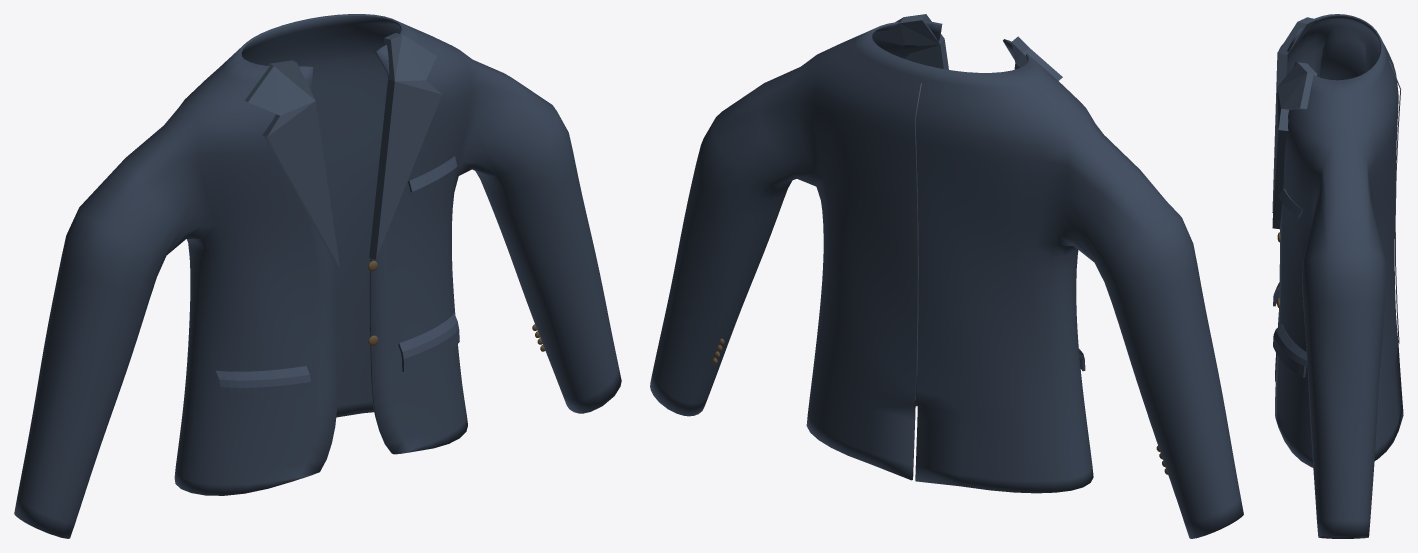
3 views of the same model, side by side, from view 1: azimuth 30°, elevation 25°; view 2: azimuth 150°, elevation 25°; view 3: azimuth 270°, elevation 25° (orthographic). The views are drawn at different scales.
Parts seen in each view (by area): view 1: Continuous open-front tailored torso and cuff sleeves, Left real notched lapel, Right real notched lapel, Left pocket flap, Right pocket flap; view 2: Continuous open-front tailored torso and cuff sleeves, Right real notched lapel; view 3: Continuous open-front tailored torso and cuff sleeves, Right real notched lapel, Right pocket flap, Left real notched lapel, Center-back tailored seam, Breast welt pocket raised lip.
Boxes of the visible parts, box(x1,y1,x2,y2) form: Continuous open-front tailored torso and cuff sleeves: box(14, 14, 621, 538); Left real notched lapel: box(245, 60, 339, 267); Right real notched lapel: box(369, 33, 442, 259); Left pocket flap: box(216, 366, 311, 400); Right pocket flap: box(398, 312, 459, 371); Continuous open-front tailored torso and cuff sleeves: box(650, 21, 1243, 538); Right real notched lapel: box(874, 14, 948, 69); Continuous open-front tailored torso and cuff sleeves: box(1275, 14, 1403, 538); Right real notched lapel: box(1272, 62, 1316, 229); Right pocket flap: box(1273, 324, 1307, 377); Left real notched lapel: box(1272, 17, 1316, 212); Center-back tailored seam: box(1389, 60, 1401, 343); Breast welt pocket raised lip: box(1278, 188, 1302, 217).
Bounding box in the file's own units: 0.968 × 0.6799 × 0.2081.
